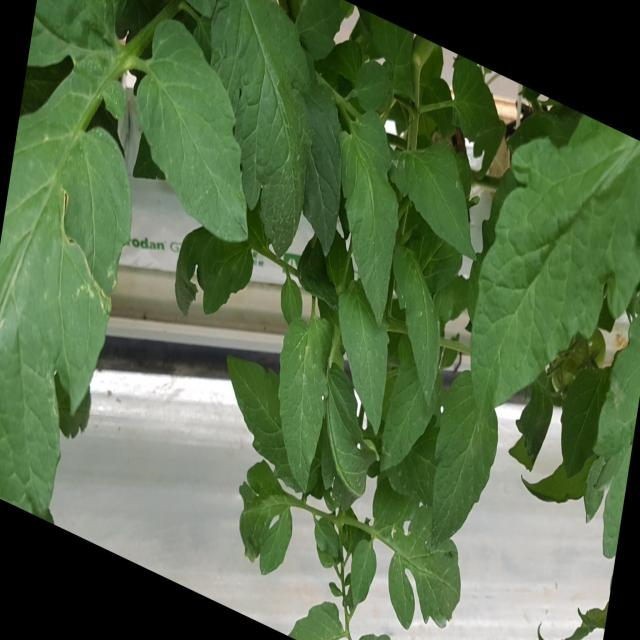Healthy Leaf: (0, 24, 145, 514), (467, 100, 640, 417), (131, 14, 255, 256), (396, 120, 489, 278), (338, 107, 398, 321), (432, 348, 492, 562), (373, 499, 466, 633), (273, 298, 334, 497), (221, 344, 300, 480), (225, 449, 296, 579), (398, 251, 445, 408)
